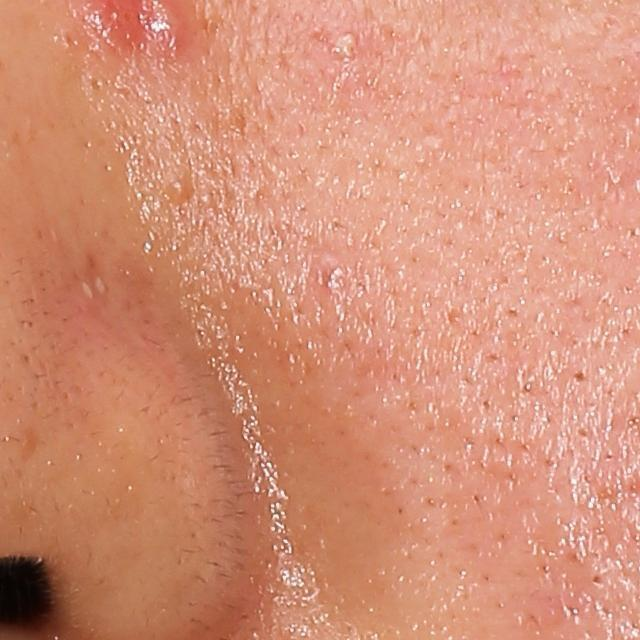comedo: (163, 180, 194, 211), (569, 370, 587, 382)
pustule: (332, 27, 363, 57)
